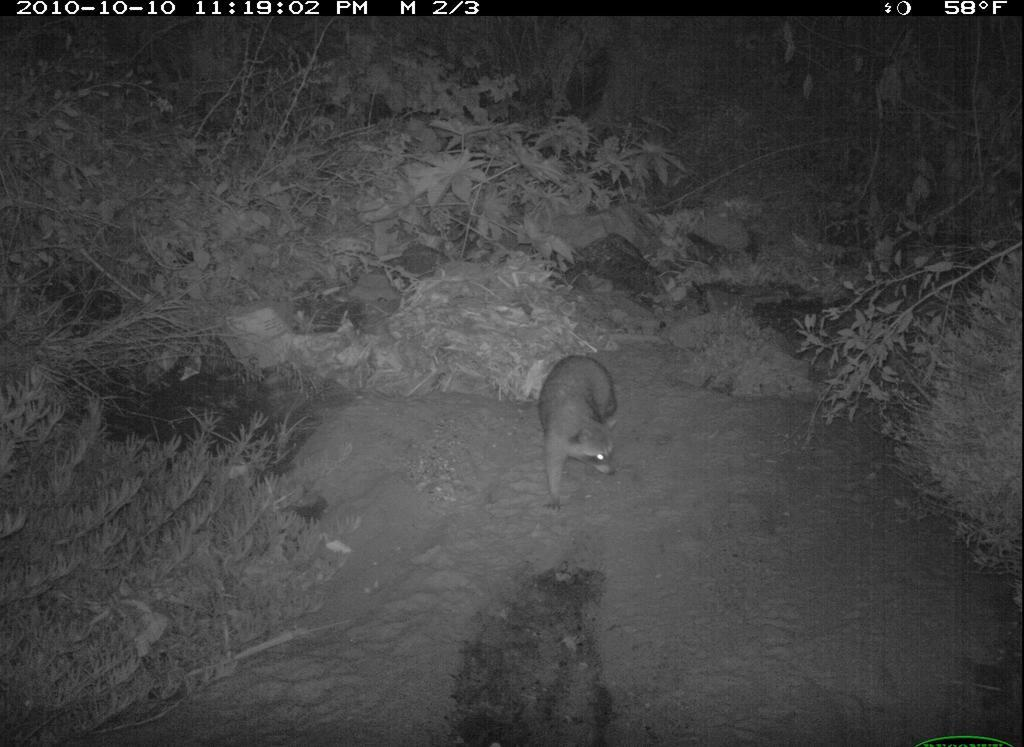raccoon: (537, 350, 626, 515)
